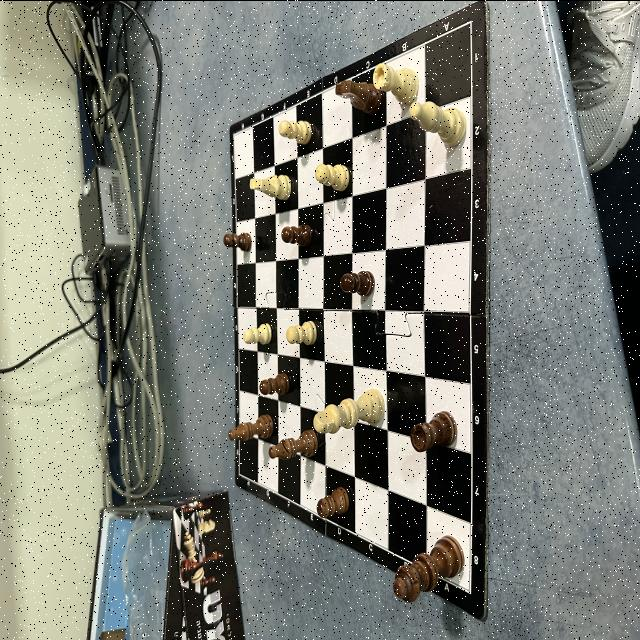Black-Bishop: (268, 428, 318, 460), (228, 412, 274, 442)
Black-Knight: (335, 80, 382, 114)
Black-Pawn: (317, 486, 349, 518), (340, 268, 375, 296), (281, 222, 313, 246), (260, 371, 290, 395), (223, 232, 252, 252)
Black-Queen: (392, 533, 464, 602)
Black-Rook: (410, 409, 458, 452)
White-Bishop: (409, 100, 466, 146)
White-King: (312, 388, 384, 433)
White-Knight: (250, 172, 292, 200)
White-Pawn: (314, 162, 350, 192), (279, 119, 312, 144), (286, 318, 317, 344), (243, 321, 273, 345)
White-Rook: (372, 62, 418, 104)
